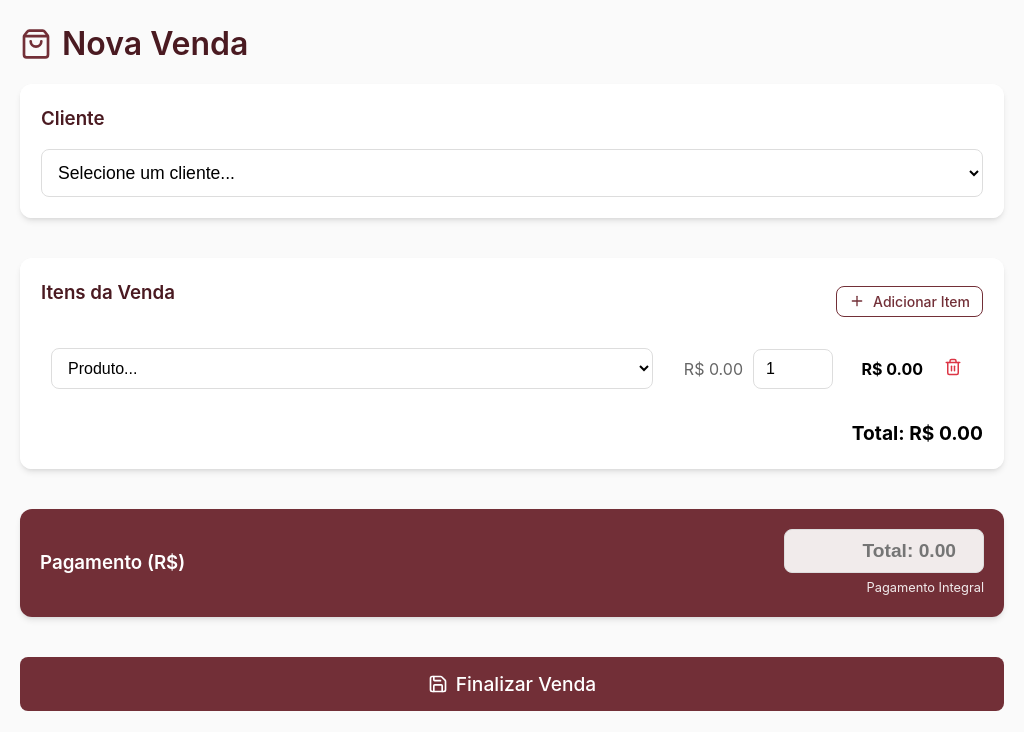
Test case: Sales Component › submits the form successfully
The image size is (1024, 732).
Select "1 - Client A (Resp A)" in the dropdown with test id "client-select" at (512,173), box [41,149,983,197]
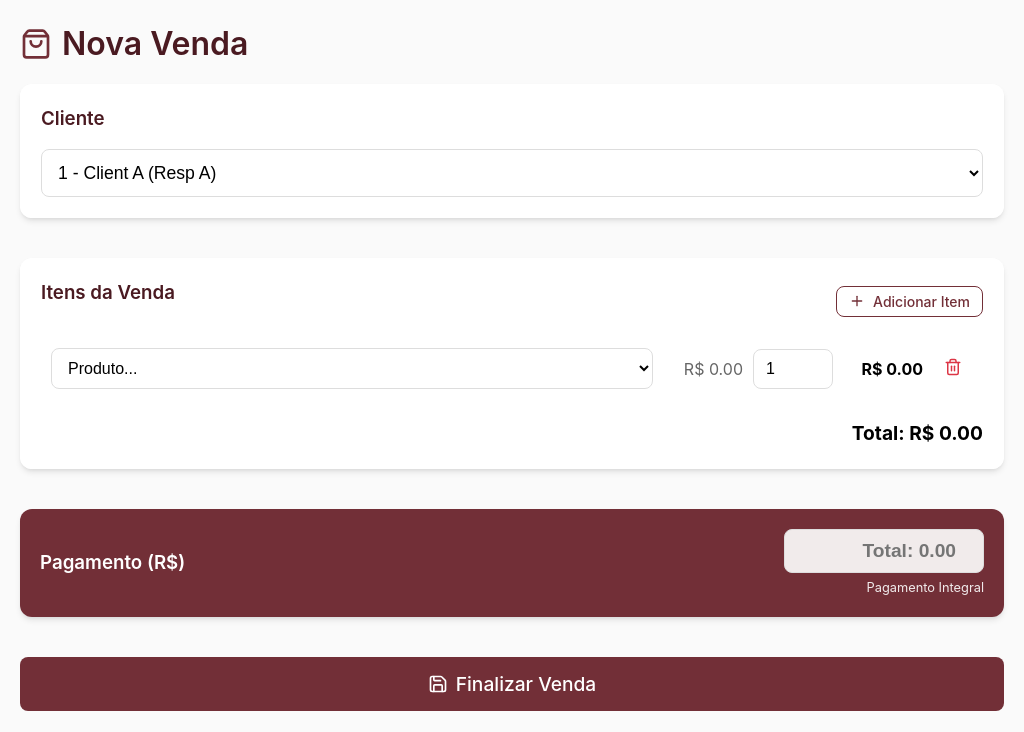
Select "Product X" in the dropdown with test id "product-select-0" at (352,369), box [51,348,653,389]
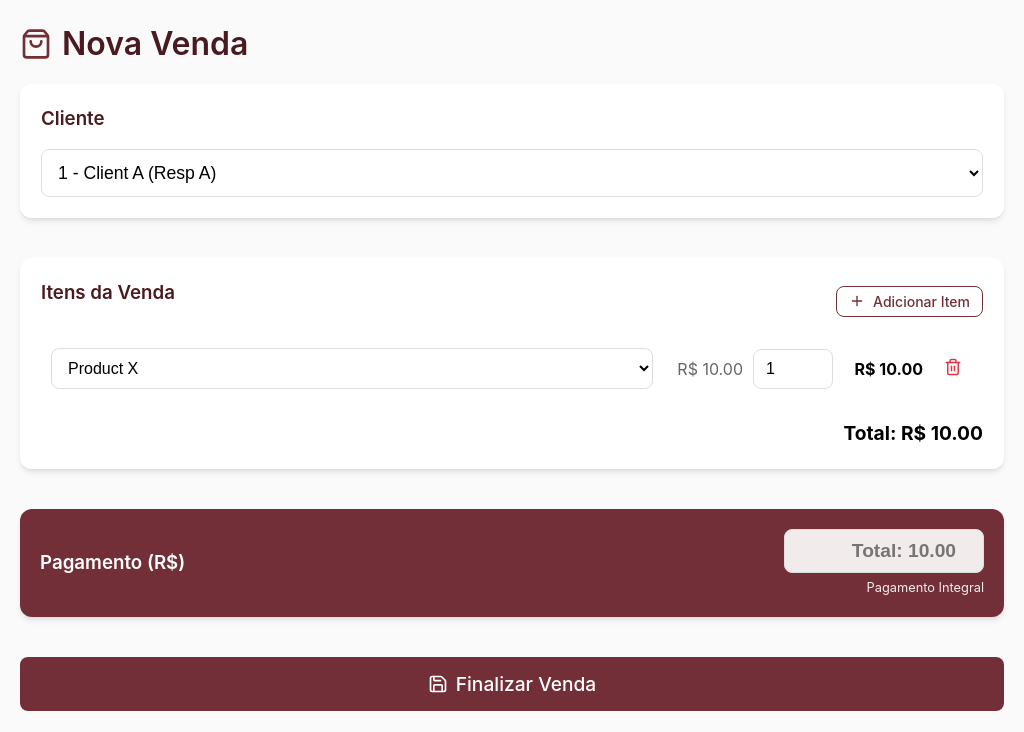
Click the button with test id "submit-btn".
click(512, 684)  # box [20,657,1004,711]
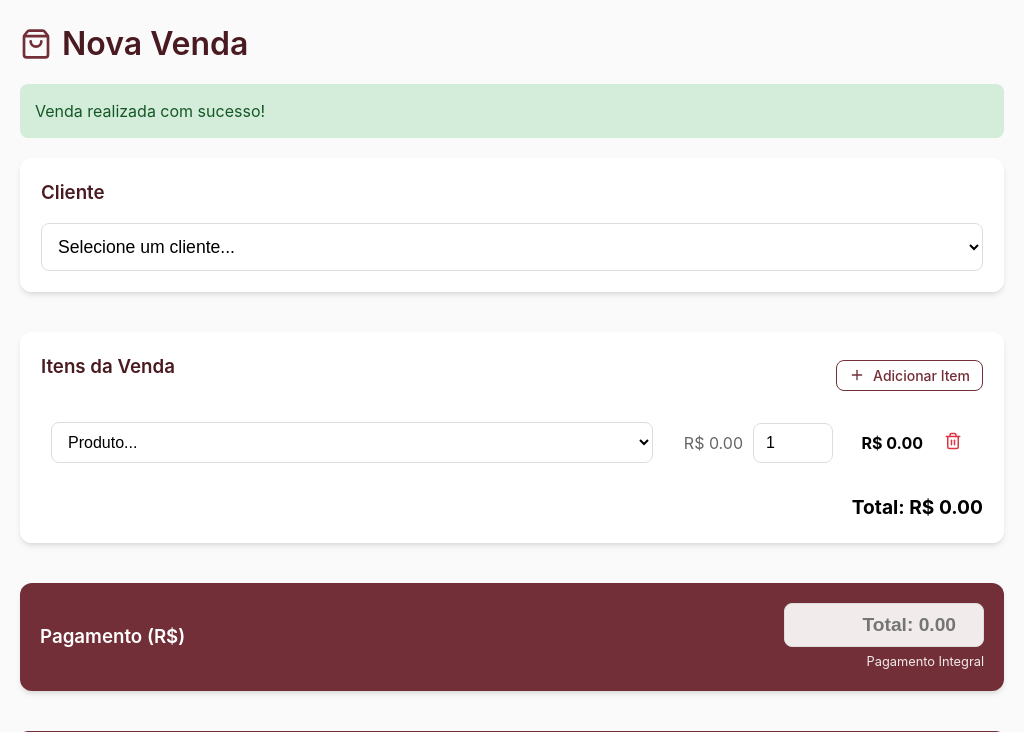
Now the text "Venda realizada com sucesso!" is shown, box [20,84,1004,138]
